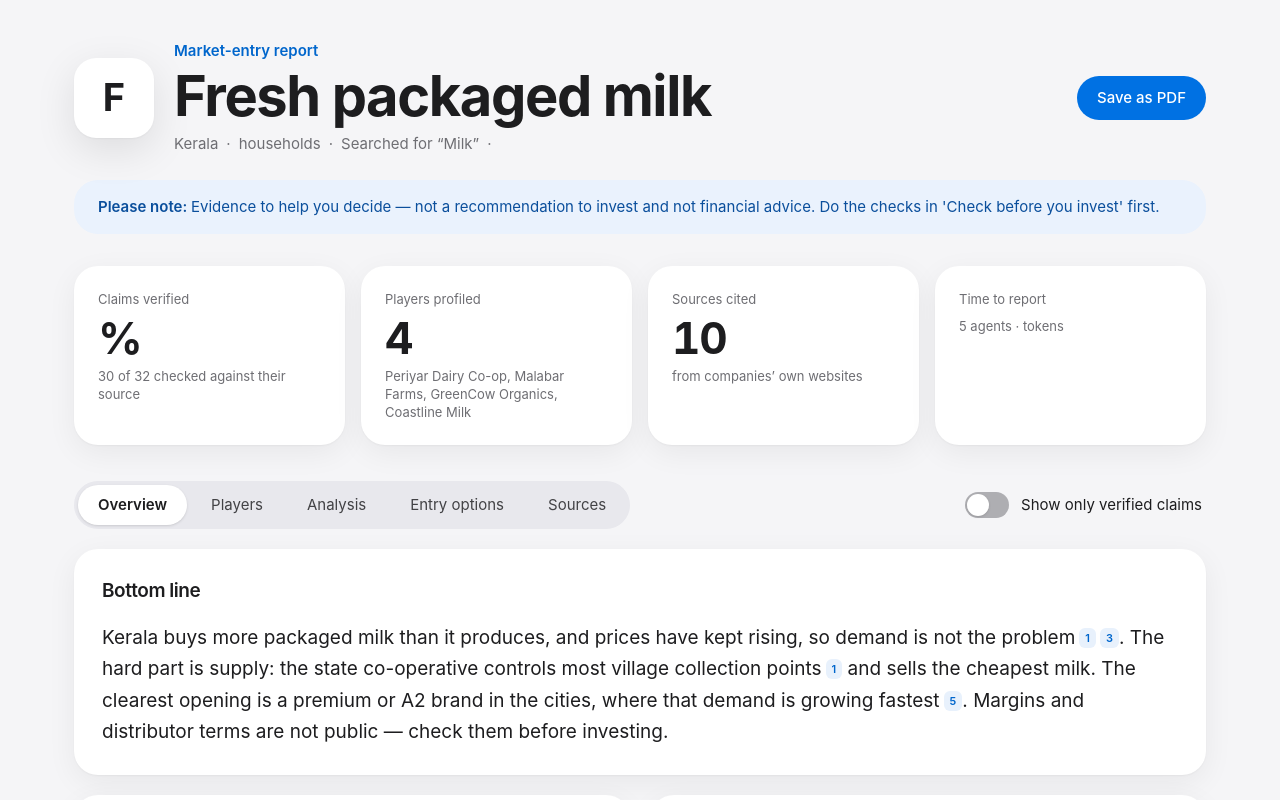
Test case: ReportDashboard — market-entry report (M13) › entry options and the check-before-you-invest list
Step 1. Click the tab "Entry options" → (457,505), box x1=390 y1=485 x2=524 y2=525
(page scrolled)
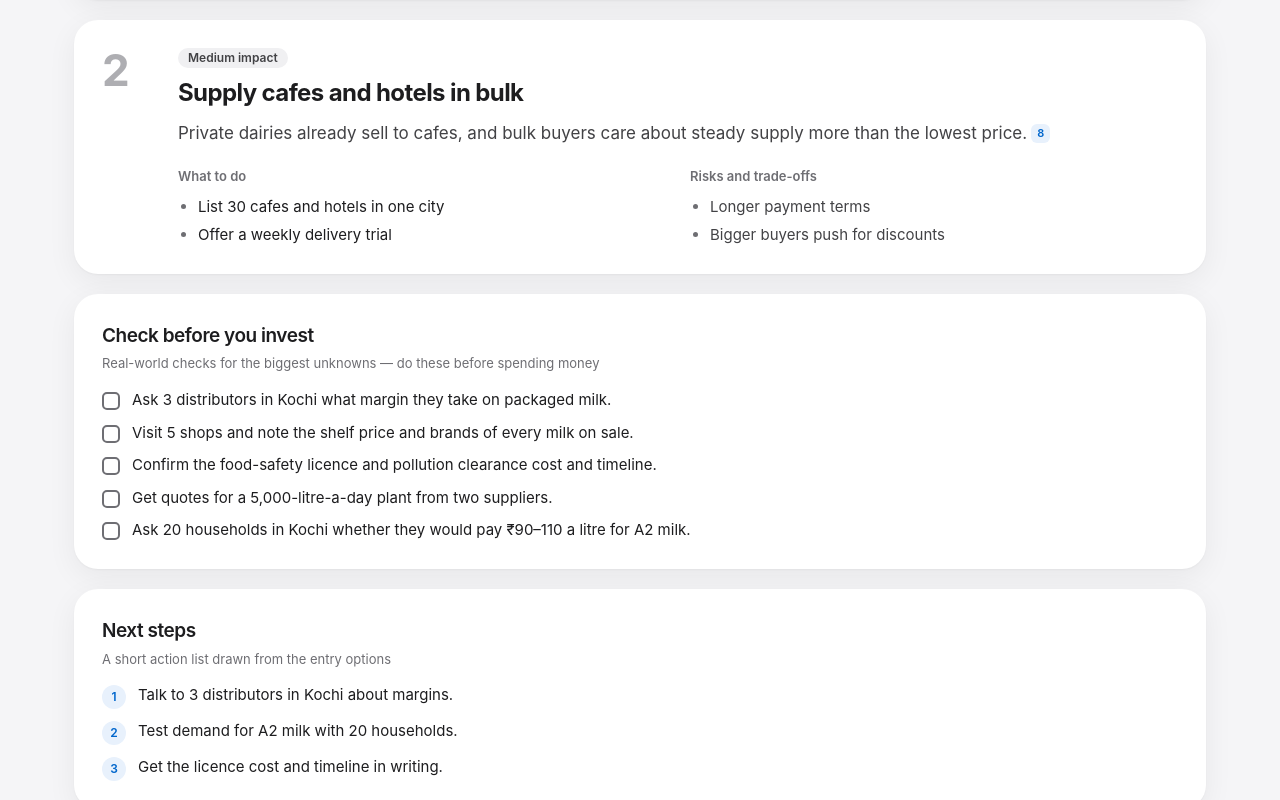
expect the heading "Check before you invest" is shown: met, box x1=102 y1=324 x2=314 y2=347
expect the list item "Ask 3 distributors in Kochi what margin they take on packaged milk." is shown: met, box x1=102 y1=390 x2=611 y2=410
